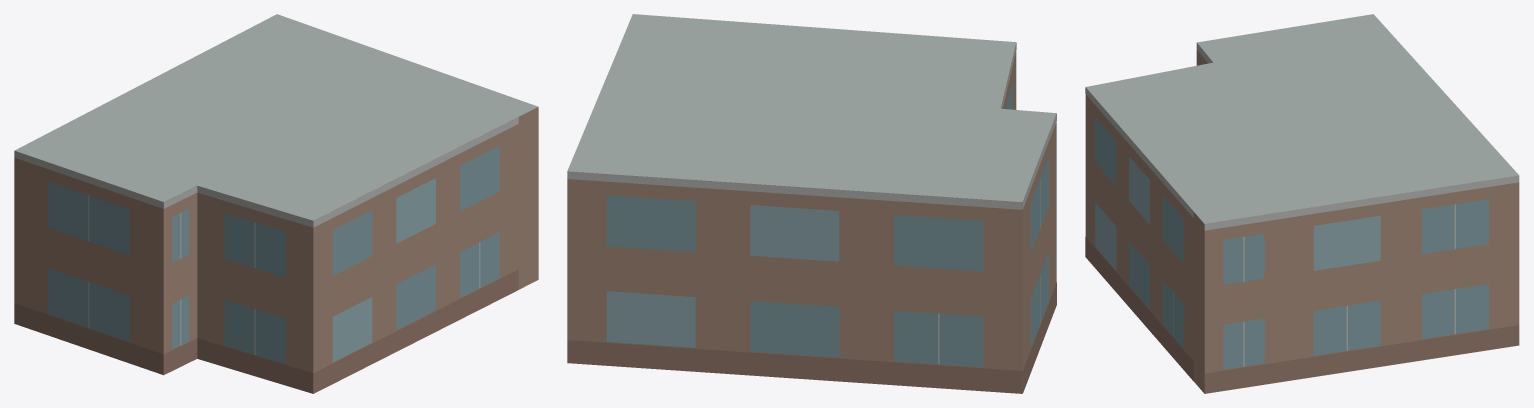
Rendered from survey-upis-32747015.glb.
3 views of the same model, side by side, from view 1: azimuth 30°, elevation 25°; view 2: azimuth 150°, elevation 25°; view 3: azimuth 270°, elevation 25° (orthographic). The views are drawn at different scales.
Parts seen in each view (by area): view 1: survey-upis-32747015.tmp; view 2: survey-upis-32747015.tmp; view 3: survey-upis-32747015.tmp.
Boxes of the visible parts, x1=… form: survey-upis-32747015.tmp: x1=14, y1=14, x2=538, y2=393; survey-upis-32747015.tmp: x1=567, y1=14, x2=1056, y2=393; survey-upis-32747015.tmp: x1=1085, y1=14, x2=1519, y2=393.
Bounding box in the file's own units: 16.17 × 6.1 × 14.12.
